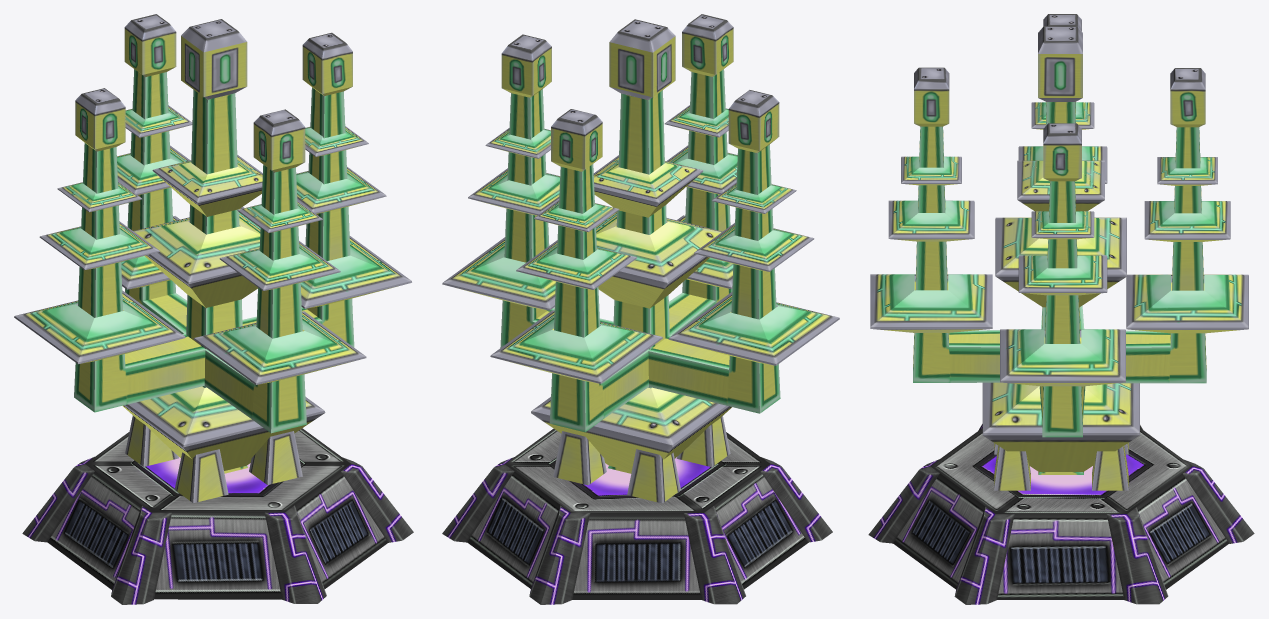
File: Tower_DoubleDisabler.FBX
The picture shows the model from 3 angles, left to right: view 1: azimuth 30°, elevation 25°; view 2: azimuth 150°, elevation 25°; view 3: azimuth 270°, elevation 25°; orthographic projection.
Parts seen in each view (by area): view 1: Body_DoubleDisabler, Base_DoubleDisabler; view 2: Body_DoubleDisabler, Base_DoubleDisabler; view 3: Body_DoubleDisabler, Base_DoubleDisabler.
Part boxes in pixels (x1=…): Body_DoubleDisabler: x1=14, y1=14, x2=411, y2=503; Base_DoubleDisabler: x1=22, y1=428, x2=413, y2=604; Body_DoubleDisabler: x1=442, y1=14, x2=839, y2=503; Base_DoubleDisabler: x1=442, y1=428, x2=832, y2=604; Body_DoubleDisabler: x1=870, y1=14, x2=1248, y2=490; Base_DoubleDisabler: x1=868, y1=424, x2=1254, y2=604.
Bounding box in the file's own units: 29.05 × 41.95 × 29.49.
